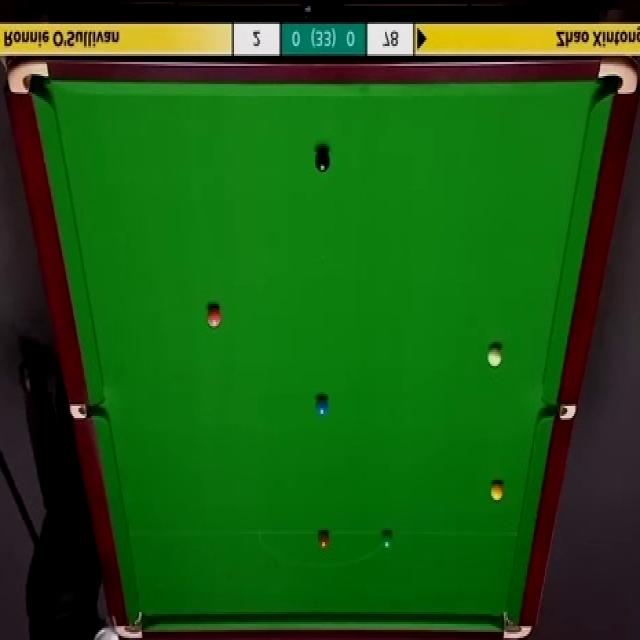pocket: (7, 58, 50, 98), (597, 60, 637, 100), (499, 608, 532, 640), (114, 612, 143, 638), (540, 403, 576, 422), (67, 402, 105, 418)
